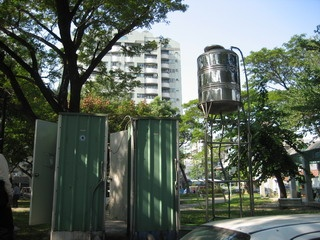water_tower: (196, 44, 242, 114)
